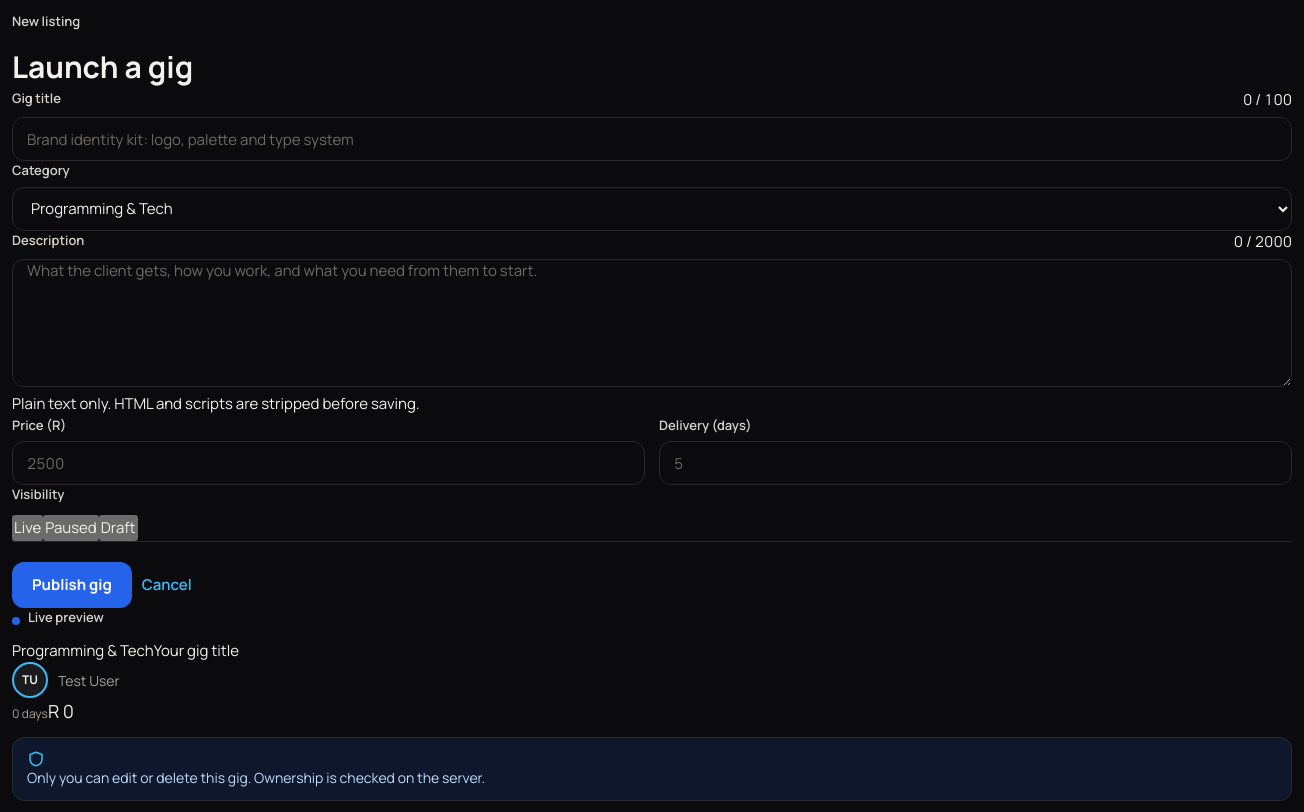
Scenario: gig form input rules › only accepts digits in the number fields
Type "12ab5.999" into the field labelled "Price (R)".
click(328, 463); type("12ab5.999")  # box x1=12 y1=441 x2=645 y2=485
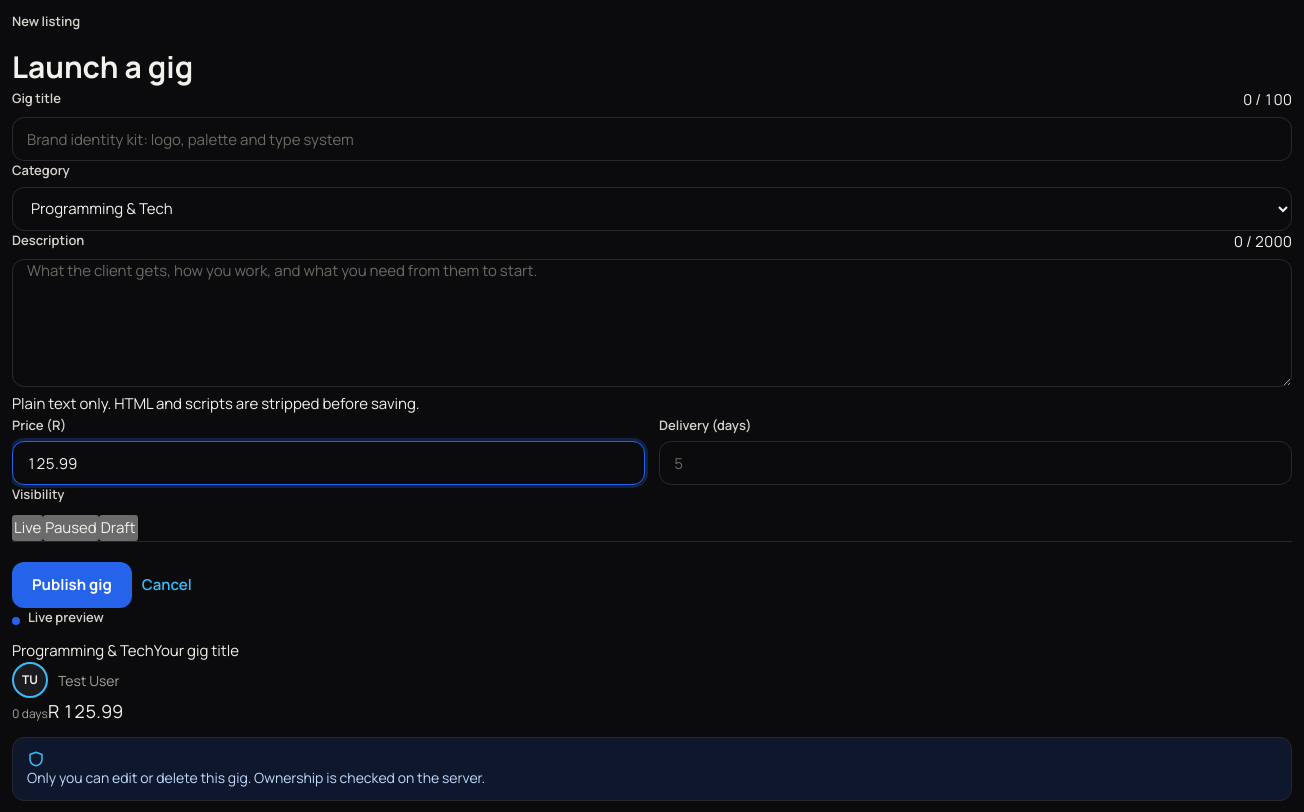
Type "7x9z" into the field labelled "Delivery (days)".
click(976, 463); type("7x9z")  # box x1=659 y1=441 x2=1292 y2=485
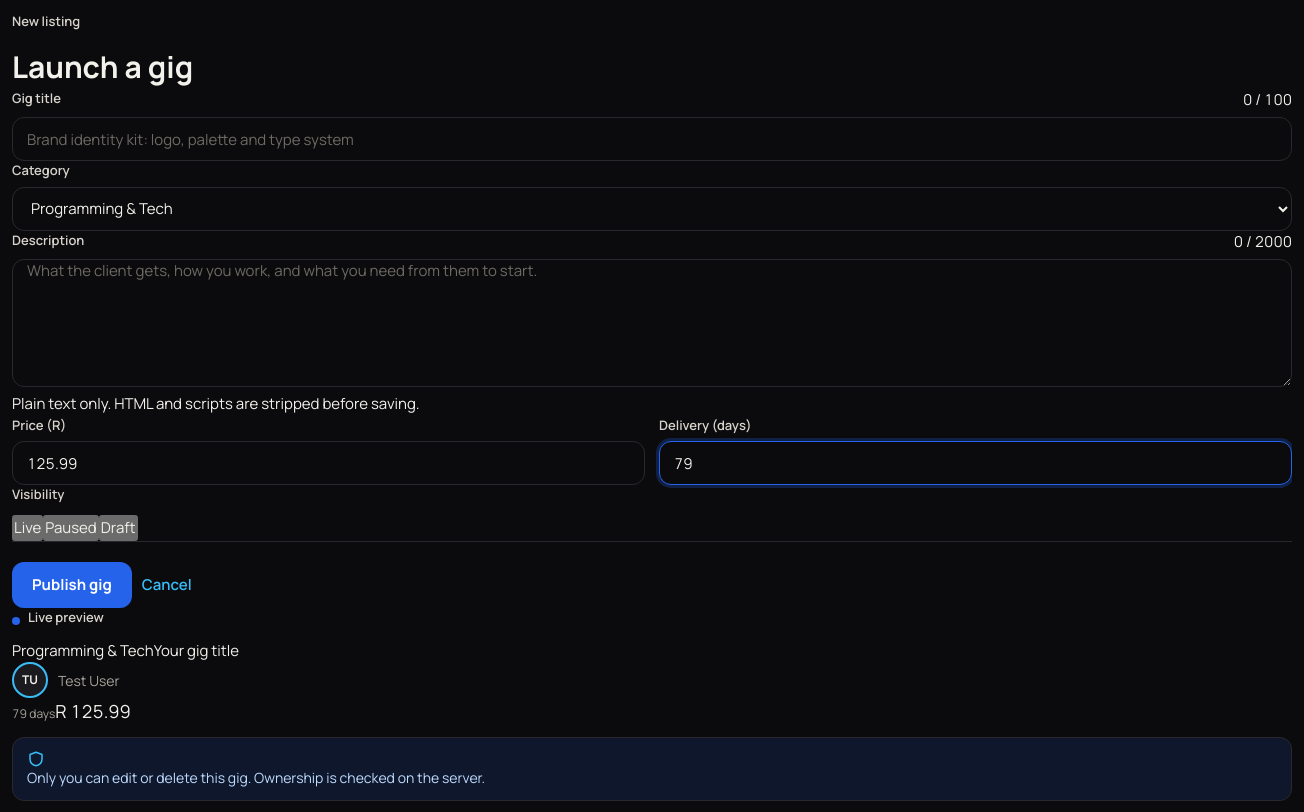
expect the field labelled "Price (R)" holds "125.99": met, box x1=12 y1=441 x2=645 y2=485
expect the field labelled "Delivery (days)" holds "79": met, box x1=659 y1=441 x2=1292 y2=485
